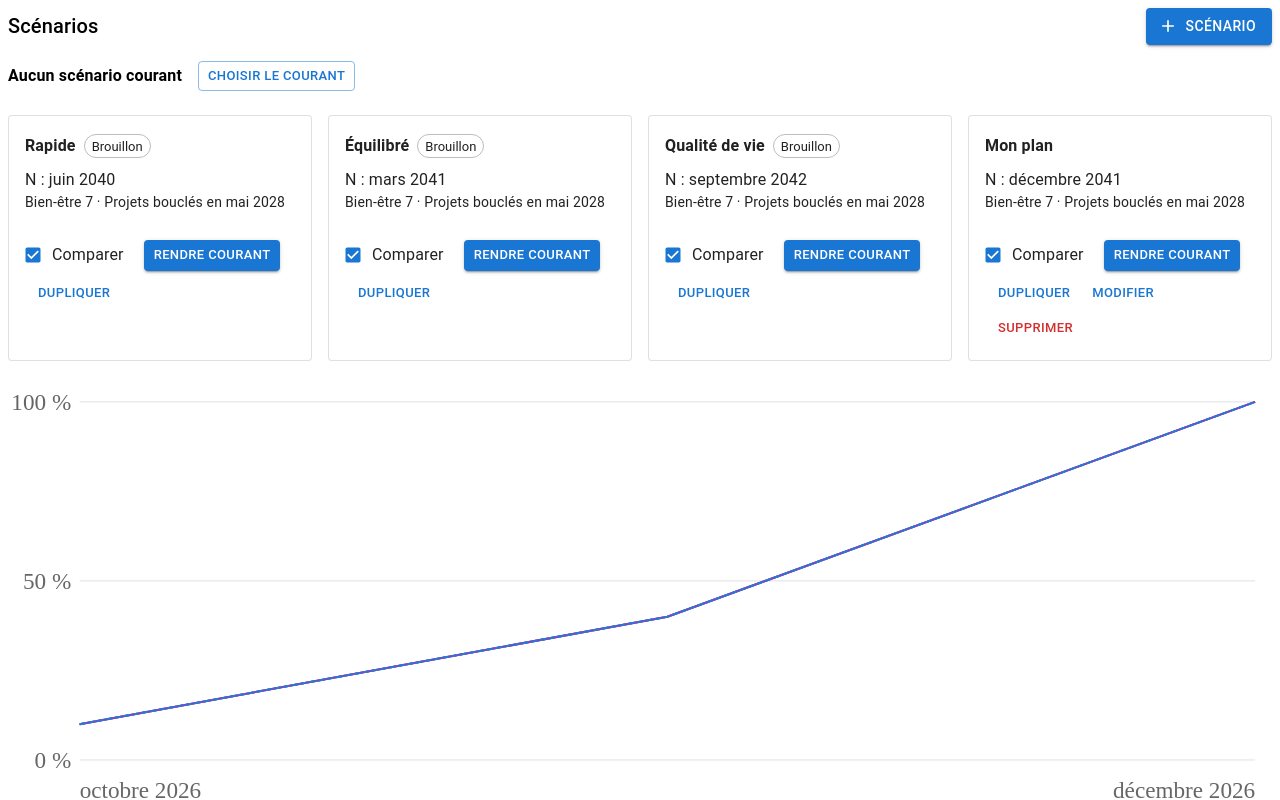
Scenario: ScenariosPanel › makes an offered scenario current: POST make-current, then the list is read again
What coordinates should you click on to do the following:
click the 1st button "Rendre courant"
I would click on:
 (212, 255)
Its box is x1=144 y1=240 x2=280 y2=271.
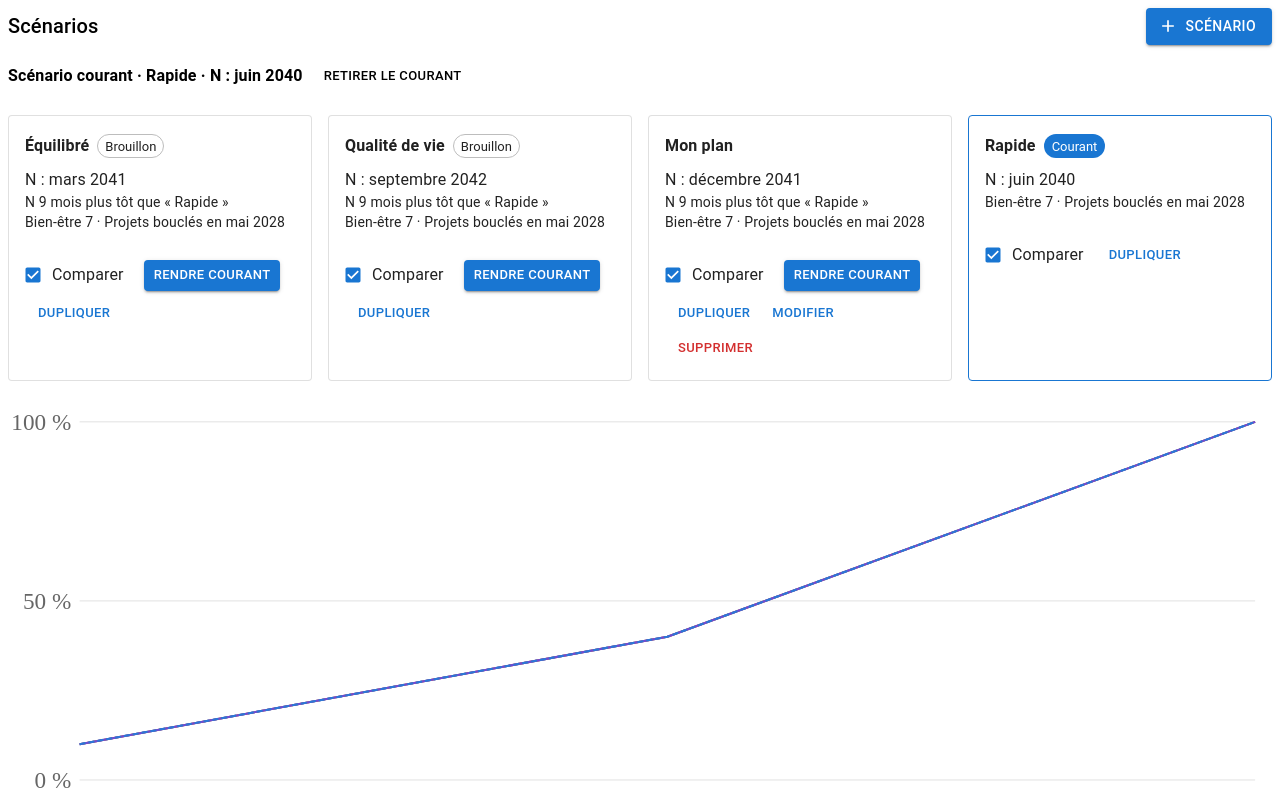
Expected: the text "Courant" is shown once, x1=1052 y1=138 x2=1097 y2=154
Expected: the element with test id "scenario-current" shows "Scénario courant · Rapide · N : juin 2040", x1=8 y1=66 x2=303 y2=85
Expected: the text "Courant" is shown, x1=1052 y1=138 x2=1097 y2=154
